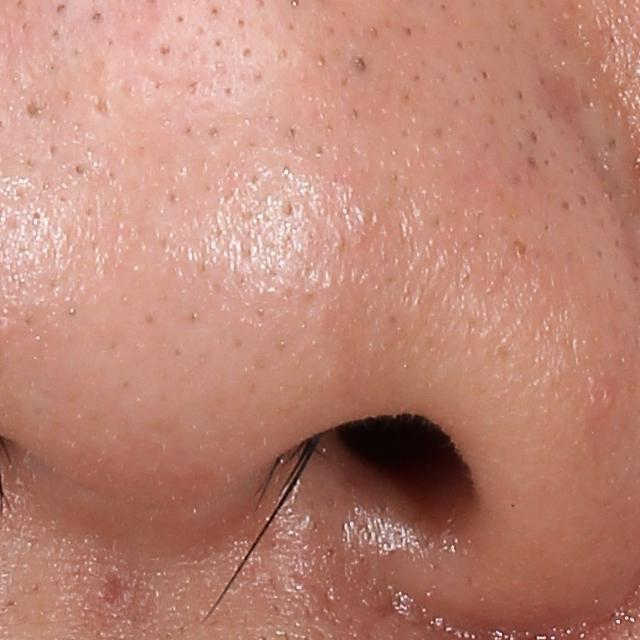comedo: (346, 54, 372, 75), (558, 195, 572, 215)
